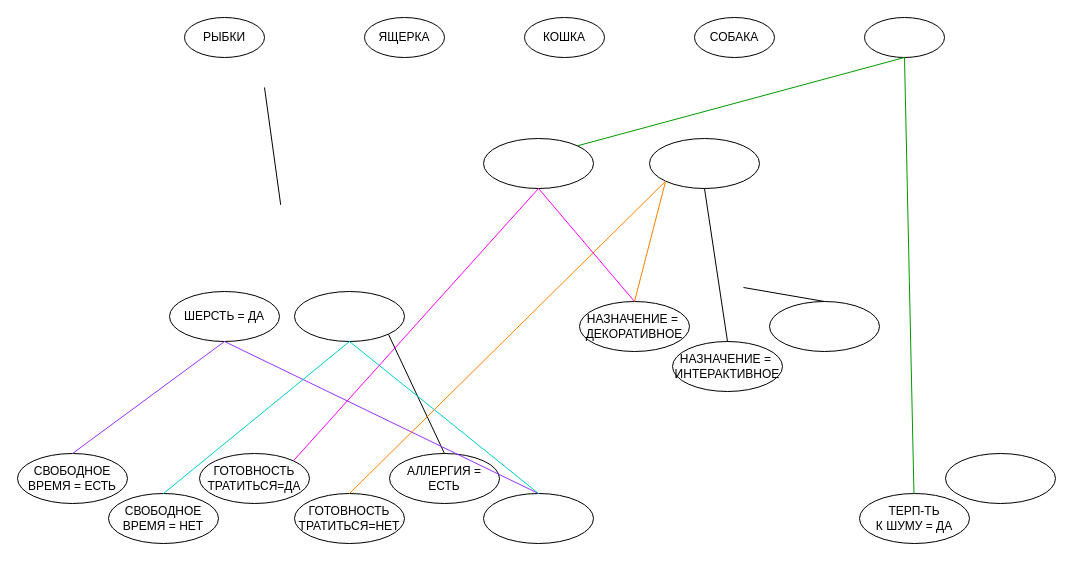
The diagram is 1073 pixels wide and 561 high, and some of its shapes have lost their labels. Here are the shapes that lost their labels. From the top down, the box of each, then its label:
(864, 16, 944, 58): ПОПУГАЙ
(482, 138, 594, 188): ЭКЗОТИЧНОСТЬ = ДА
(648, 138, 760, 188): ЭКЗОТИЧНОСТЬ = НЕТ
(294, 290, 404, 342): ШЕРСТЬ = НЕТ
(768, 300, 880, 352): НАЗНАЧЕНИЕ = ПОЛЕЗНОЕ
(944, 452, 1056, 504): ТЕРП-ТЬ К ШУМУ = НЕТ
(482, 492, 594, 544): АЛЛЕРГИЯ = НЕТ
